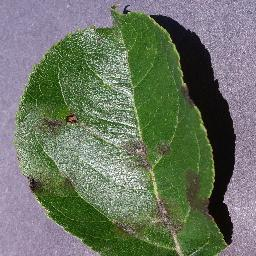apple healthy: (13, 3, 235, 255)
